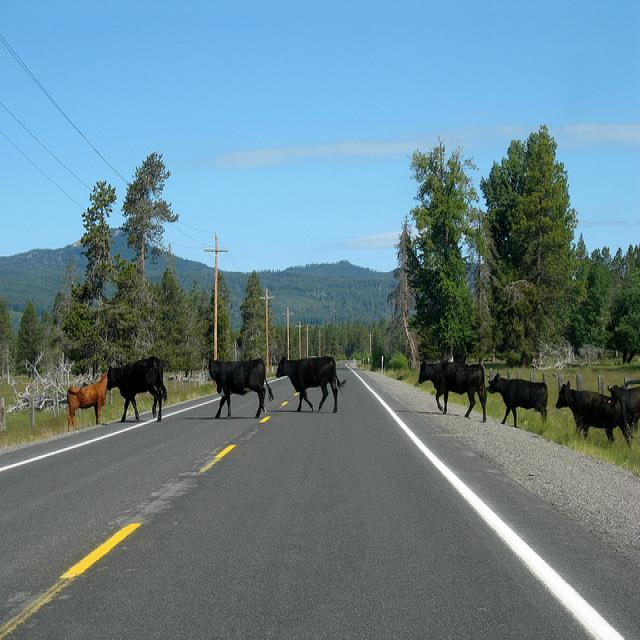cow: (554, 384, 632, 445), (205, 352, 273, 419), (416, 358, 486, 422), (104, 355, 168, 423), (274, 352, 346, 412), (487, 373, 547, 427), (65, 372, 106, 431), (606, 383, 639, 431)
